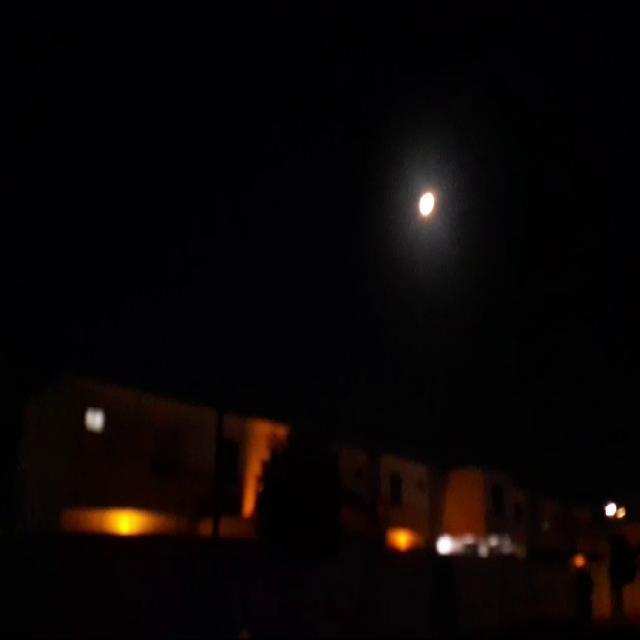moon: (417, 189, 440, 223)
